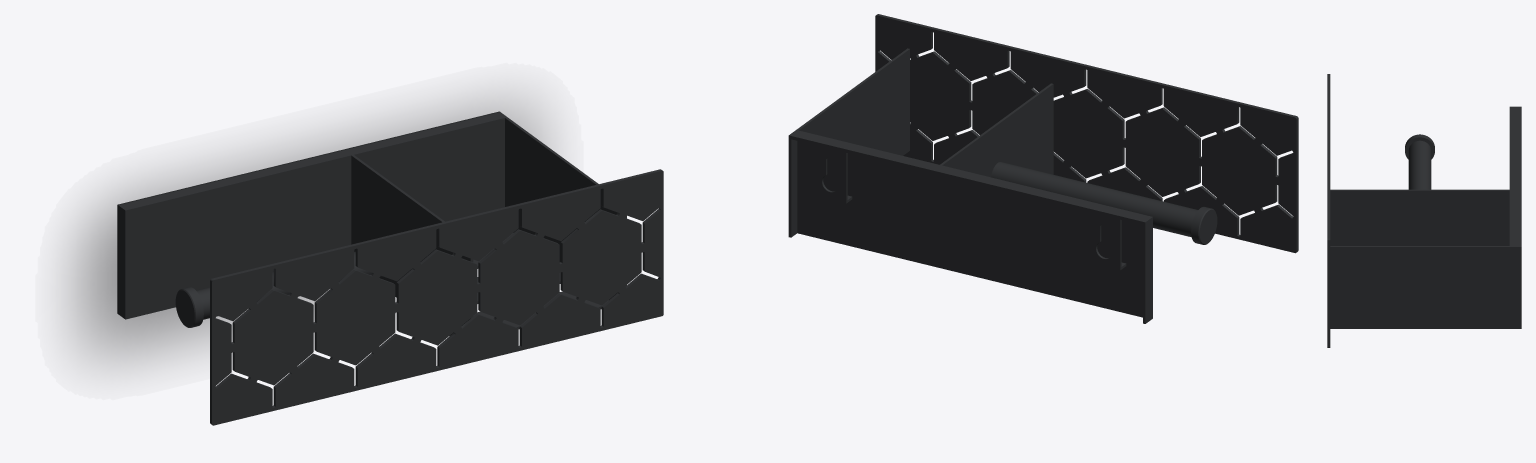
Rendered from bee-duetto.fc197fc127.ar.glb.
3 views of the same model, side by side, from view 1: azimuth 30°, elevation 25°; view 2: azimuth 150°, elevation 25°; view 3: azimuth 270°, elevation 25° (orthographic). The views are drawn at different scales.
Visible parts, largest first — view 1: NAUO1, object 2; view 2: NAUO1; view 3: NAUO1.
Boxes of the visible parts, x1,y1,x2,y2 form: NAUO1: (117,111,663,425); object 2: (70,102,546,360); NAUO1: (788,14,1298,323); NAUO1: (1327,74,1521,347).
Size of the model in its own units: 0.34 by 0.16 by 0.129.
2 materials, 1 textured.
